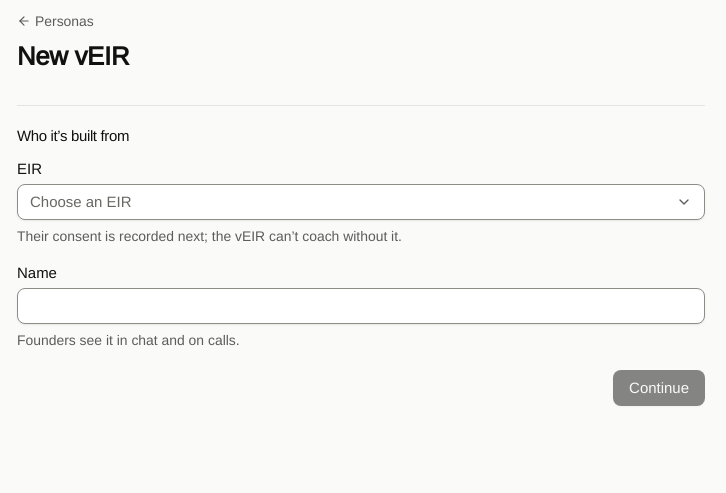
NewPersonaPage (program lead) › refuses a name founders could take for the EIR in person
Click the dropdown labelled "EIR" at (81, 202), box [17,184,705,220]
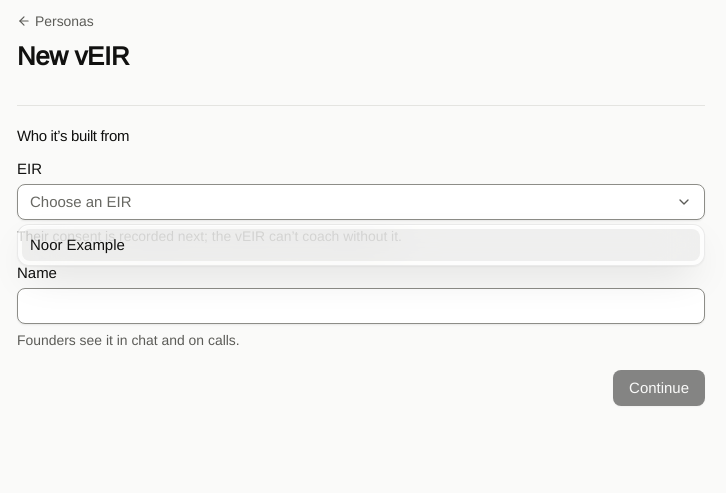
Click the option "Noor Example" at (77, 244), box [22,229,700,261]
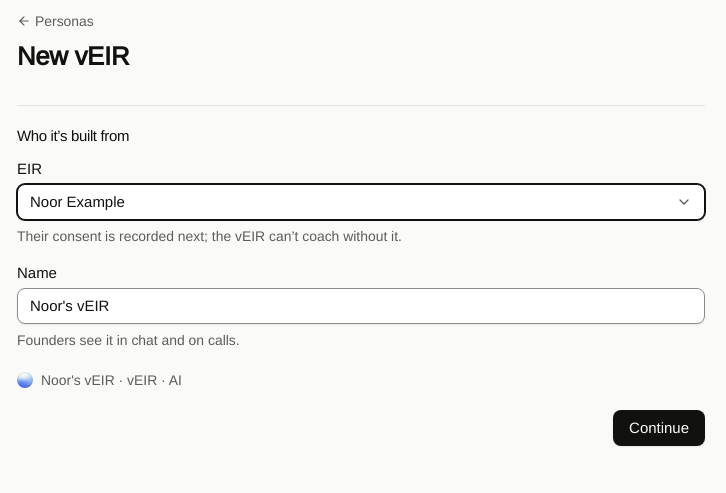
Clear the field labelled "Name" at (361, 306), box [17,288,705,324]
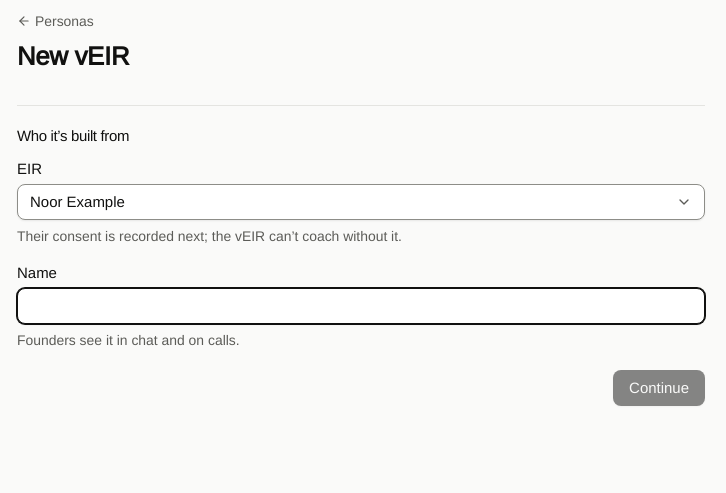
Type keys "Noor Example"
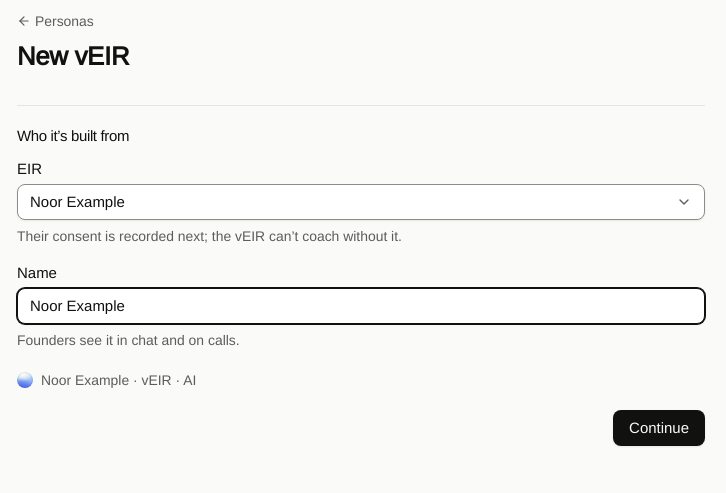
Click the button "Continue" at (659, 428), box [613,410,705,446]
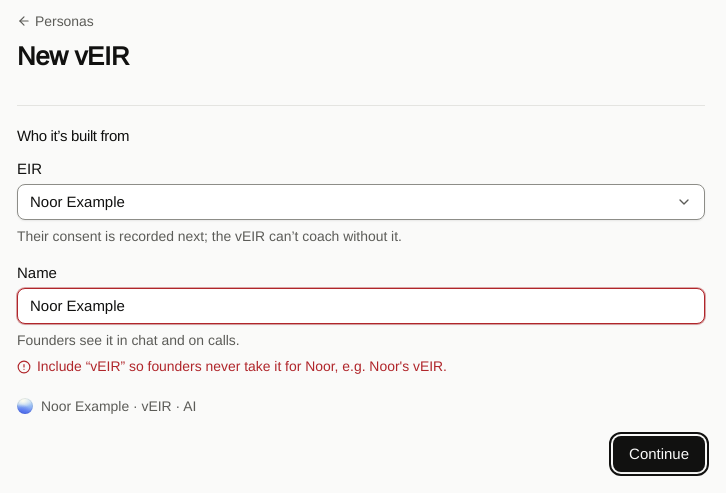
Expected: the heading "New vEIR" is shown, [17,41,129,73]
Expected: the text "Include “vEIR” so founders never take it for Noor, e.g. Noor's vEIR." is shown, [37,358,447,376]
